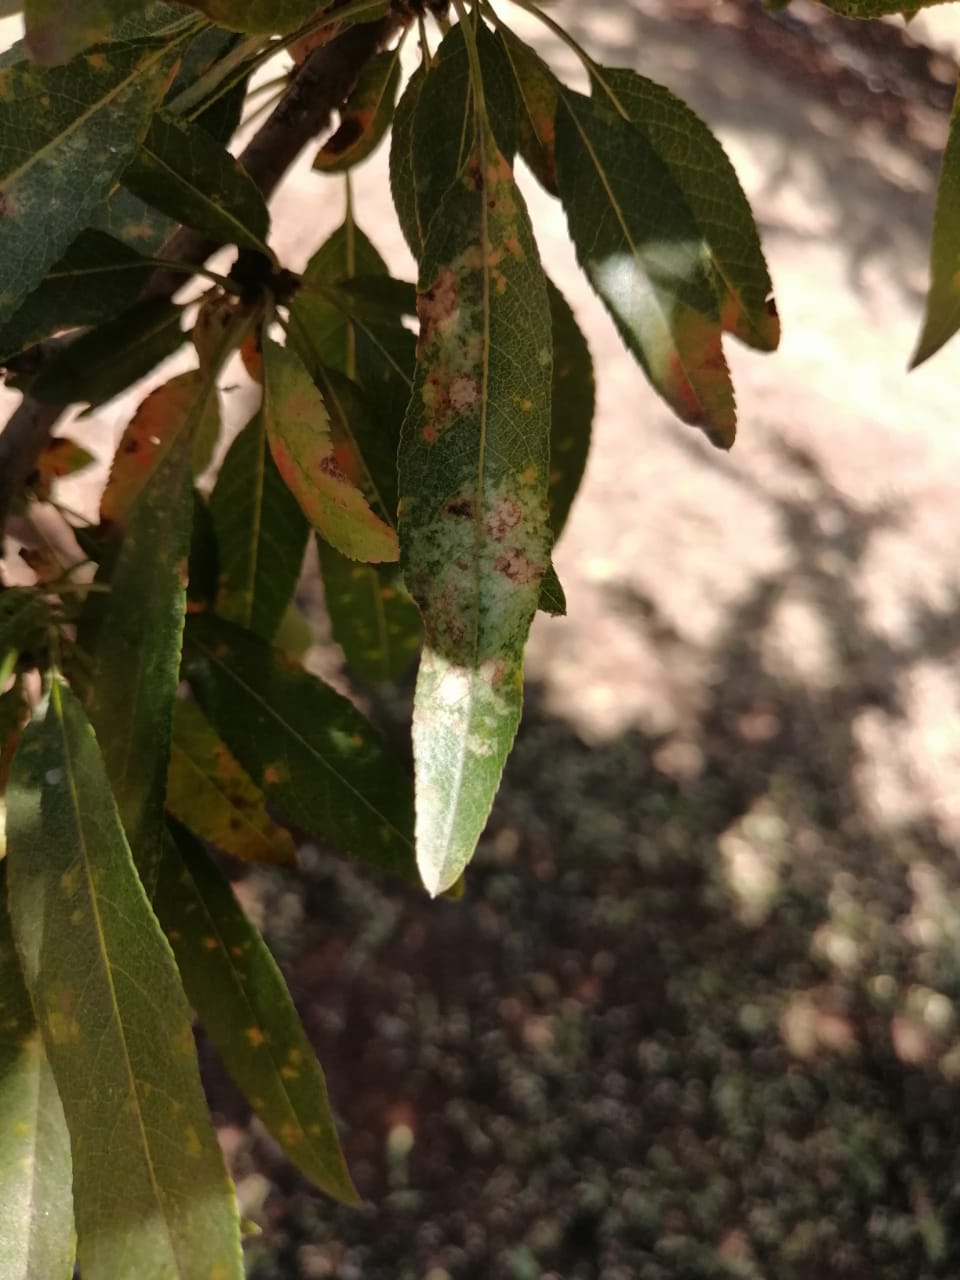faux tigre: (394, 133, 556, 900)
